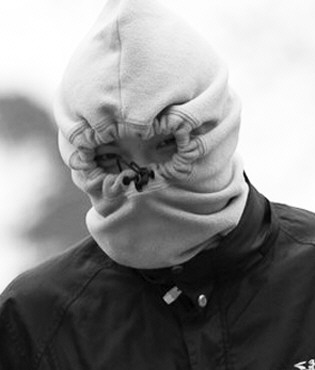face_mask: (84, 72, 211, 242)
